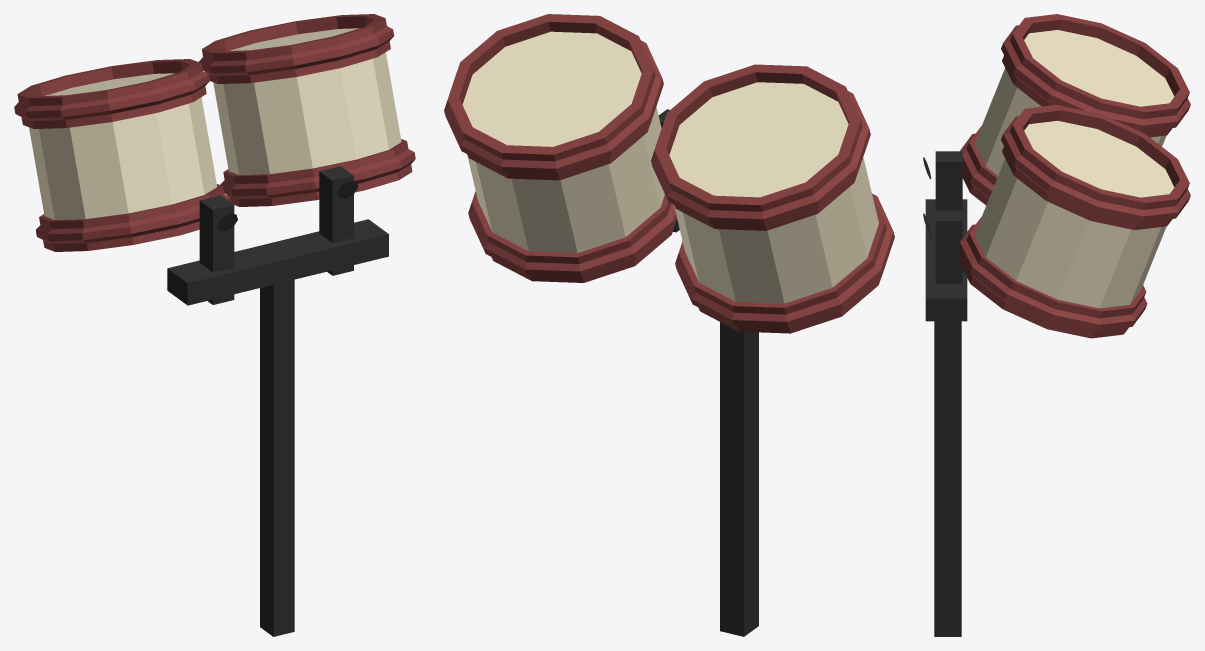
File: drum5.fbx
3 views of the same model, side by side, from view 1: azimuth 30°, elevation 25°; view 2: azimuth 150°, elevation 25°; view 3: azimuth 270°, elevation 25° (orthographic). The views are drawn at different scales.
Visible parts, largest first — view 1: drum5; view 2: drum5; view 3: drum5.
Part boxes in pixels (bbox=[...]): drum5: bbox=[14, 14, 415, 636]; drum5: bbox=[444, 14, 894, 636]; drum5: bbox=[923, 14, 1190, 636].
Bounding box in the file's own units: 27.42 × 17.72 × 40.3.
